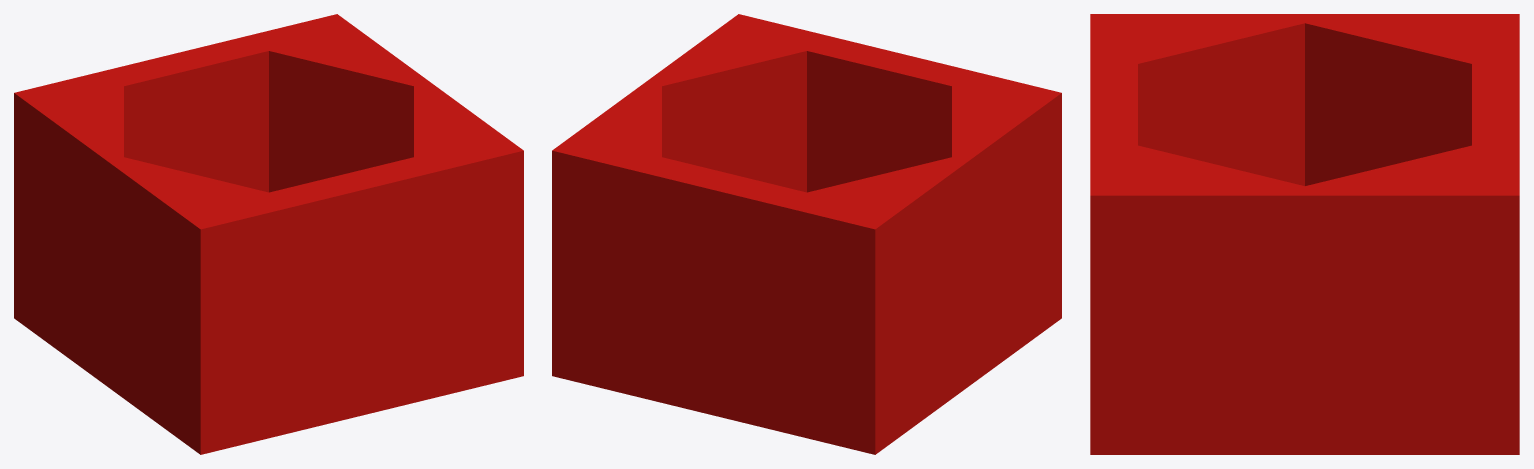
Rendered from liulengzhukong.dae.
The picture shows the model from 3 angles, left to right: view 1: azimuth 30°, elevation 25°; view 2: azimuth 150°, elevation 25°; view 3: azimuth 270°, elevation 25°; orthographic projection. The views are drawn at different scales.
Visible parts, largest first — view 1: Liulengzhukong; view 2: Liulengzhukong; view 3: Liulengzhukong.
Boxes of the visible parts, left/top/right/bottom form: Liulengzhukong: left=14, top=14, right=523, bottom=454; Liulengzhukong: left=552, top=14, right=1061, bottom=454; Liulengzhukong: left=1090, top=14, right=1519, bottom=454.
Size of the model in its own units: 0.09 by 0.09 by 0.06.
